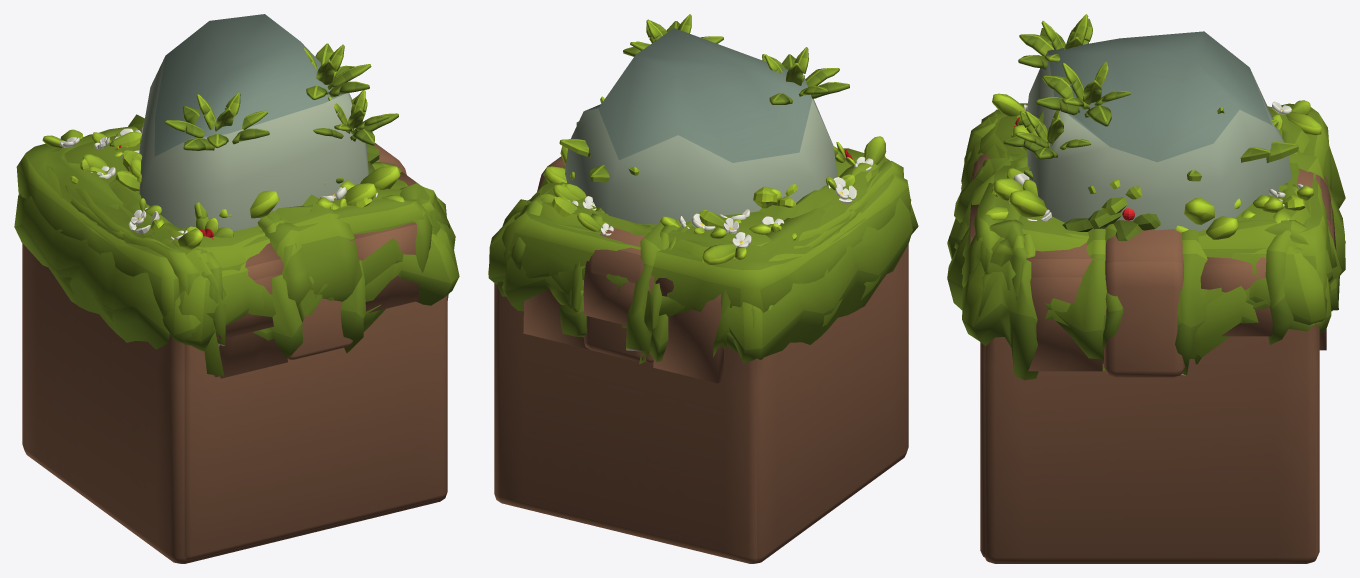
Rendered from Spring_Cubesv2.fbx.
3 renders of one model, left to right at view 1: azimuth 30°, elevation 25°; view 2: azimuth 150°, elevation 25°; view 3: azimuth 270°, elevation 25°, orthographic. The views are drawn at different scales.
Visible parts, largest first — view 1: Spring4, Spring9, Spring_Cube_03.004, Spring_Cube5.001, Spring_Cube11.001, Spring_Cube10.002, Spring_Cube12.001, Spring_Cube4.002, Spring_Cube1.001, Spring_Cube6.002, Road6.001, Road12 (+14 smaller); view 2: Spring9, Spring_Cube_03.004, Spring_Cube11.001, Spring_Cube5.001, Road5, Spring_Cube10.002, Road.001, Spring_Cube6.002, Cube_Base.002, Spring_Cube3.001, Tree_Spring.006, Spring_Cube_10.002 (+9 smaller); view 3: Spring9, Spring_Cube_03.004, Road.001, Spring_Cube2.003, Spring_Cube4.002, Spring_Cube10.002, Spring_Cube11.001, Spring_Cube1.001, Spring_Cube12.001, Springroad4, Spring_Cube3.001, Spring_Cube6.002 (+14 smaller).
Part boxes in pixels (x1,y1,x2,y2): Spring4: [184, 295, 446, 560]; Spring9: [22, 244, 447, 563]; Spring_Cube_03.004: [139, 14, 368, 231]; Spring_Cube5.001: [14, 114, 288, 376]; Spring_Cube11.001: [16, 126, 284, 318]; Spring_Cube10.002: [64, 134, 441, 346]; Spring_Cube12.001: [161, 160, 449, 301]; Spring_Cube4.002: [178, 196, 459, 351]; Spring_Cube1.001: [54, 260, 385, 357]; Spring_Cube6.002: [65, 178, 429, 322]; Road6.001: [218, 250, 287, 378]; Road12: [350, 172, 418, 312]; Spring9: [494, 244, 908, 563]; Spring_Cube_03.004: [565, 28, 837, 224]; Spring_Cube11.001: [501, 156, 911, 314]; Spring_Cube5.001: [502, 169, 912, 364]; Road5: [653, 278, 723, 383]; Spring_Cube10.002: [530, 158, 889, 307]; Road.001: [537, 156, 644, 361]; Spring_Cube6.002: [508, 161, 903, 269]; Cube_Base.002: [583, 261, 654, 330]; Spring_Cube3.001: [488, 162, 918, 328]; Tree_Spring.006: [762, 47, 849, 104]; Spring_Cube_10.002: [559, 96, 797, 234]; Spring9: [985, 323, 1319, 563]; Spring_Cube_03.004: [1026, 31, 1291, 231]; Road.001: [1104, 168, 1332, 377]; Spring_Cube2.003: [961, 144, 1341, 375]; Spring_Cube4.002: [961, 141, 1341, 380]; Spring_Cube10.002: [954, 109, 1331, 290]; Spring_Cube11.001: [990, 103, 1333, 344]; Spring_Cube1.001: [947, 218, 1345, 358]; Spring_Cube12.001: [954, 116, 1296, 300]; Springroad4: [1028, 242, 1102, 371]; Spring_Cube3.001: [978, 111, 1337, 325]; Spring_Cube6.002: [959, 103, 1332, 282].
Bounding box in the file's own units: 121 × 158 × 122.
